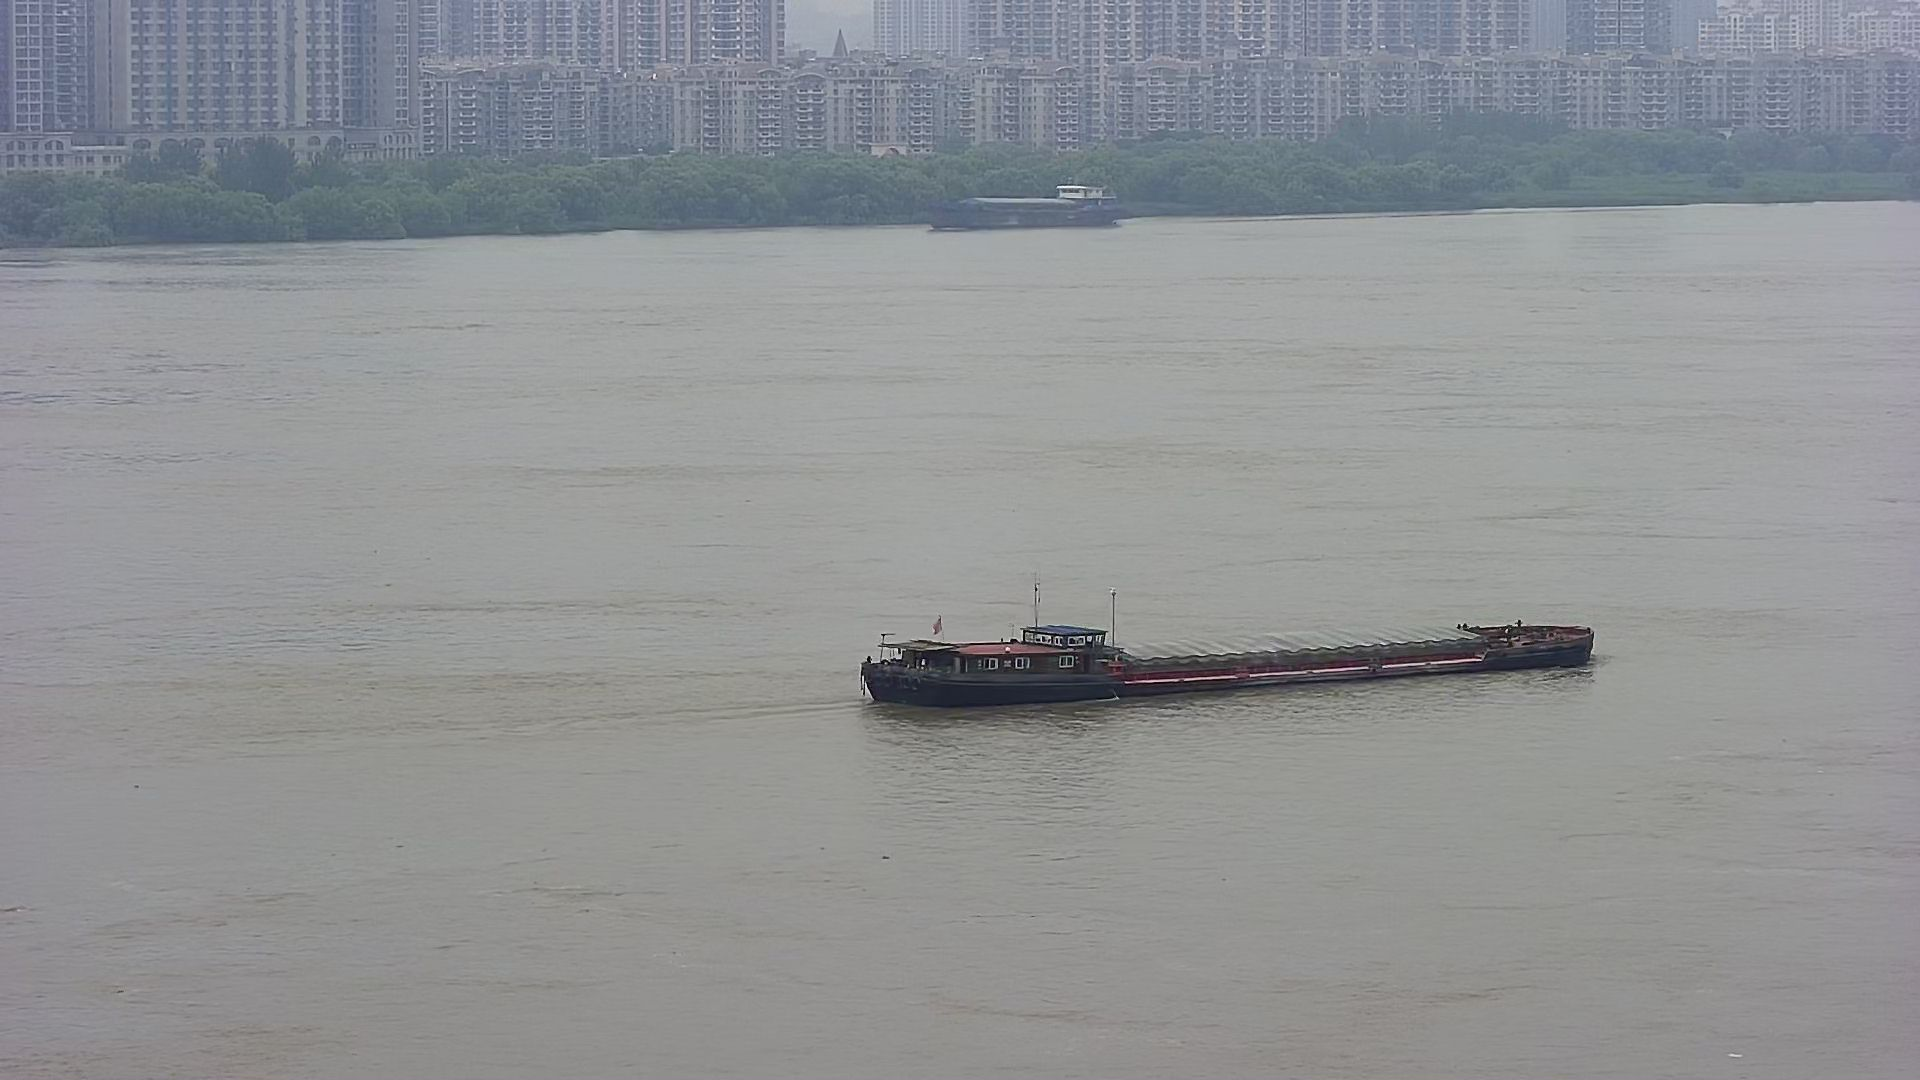ship: (857, 596, 1615, 715), (916, 169, 1131, 235)
